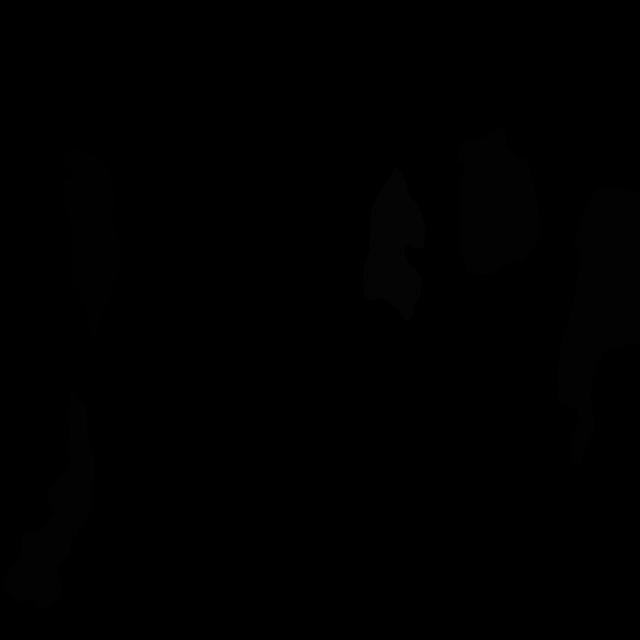cardboard: (556, 187, 640, 466), (458, 126, 542, 275), (2, 513, 79, 608), (45, 390, 96, 530)
rigid_plastic: (62, 148, 118, 348)
soft_plastic: (363, 166, 425, 321)
